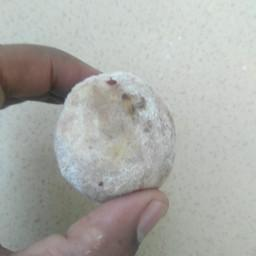Bad_lime: (52, 68, 182, 197)
